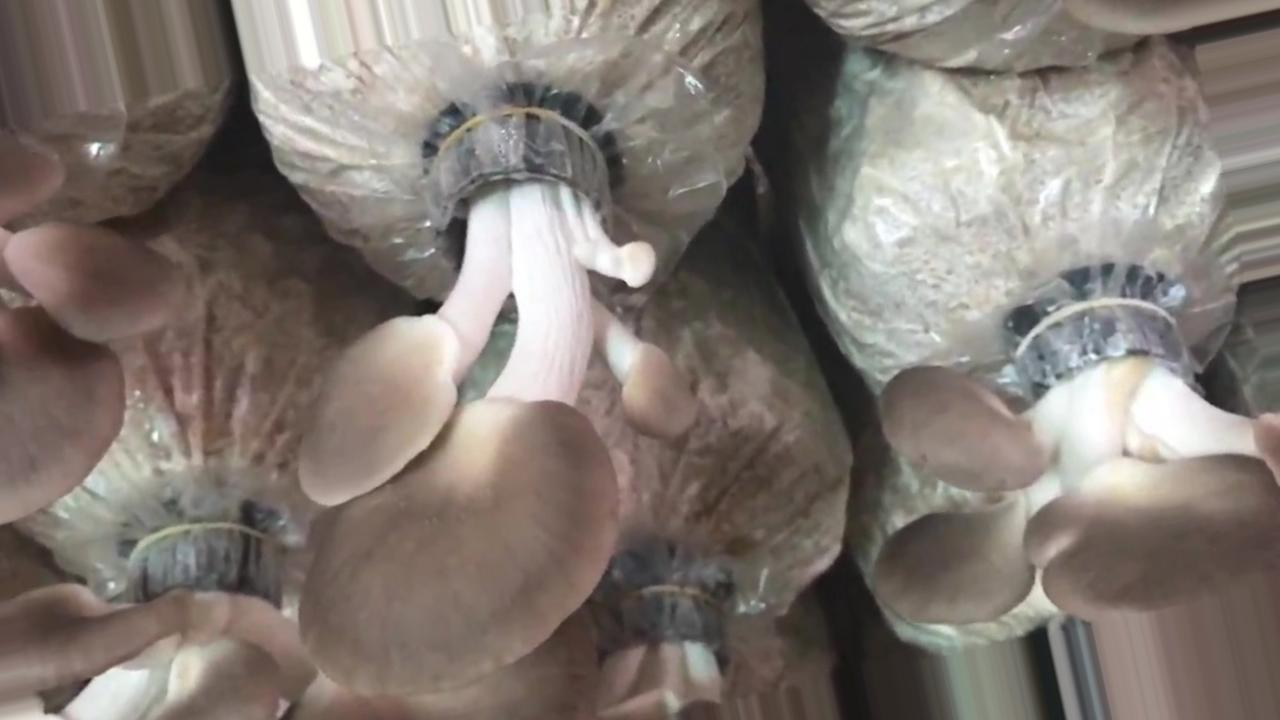nam: (296, 88, 697, 696), (867, 293, 1278, 720), (2, 525, 592, 720), (1, 113, 192, 524)
